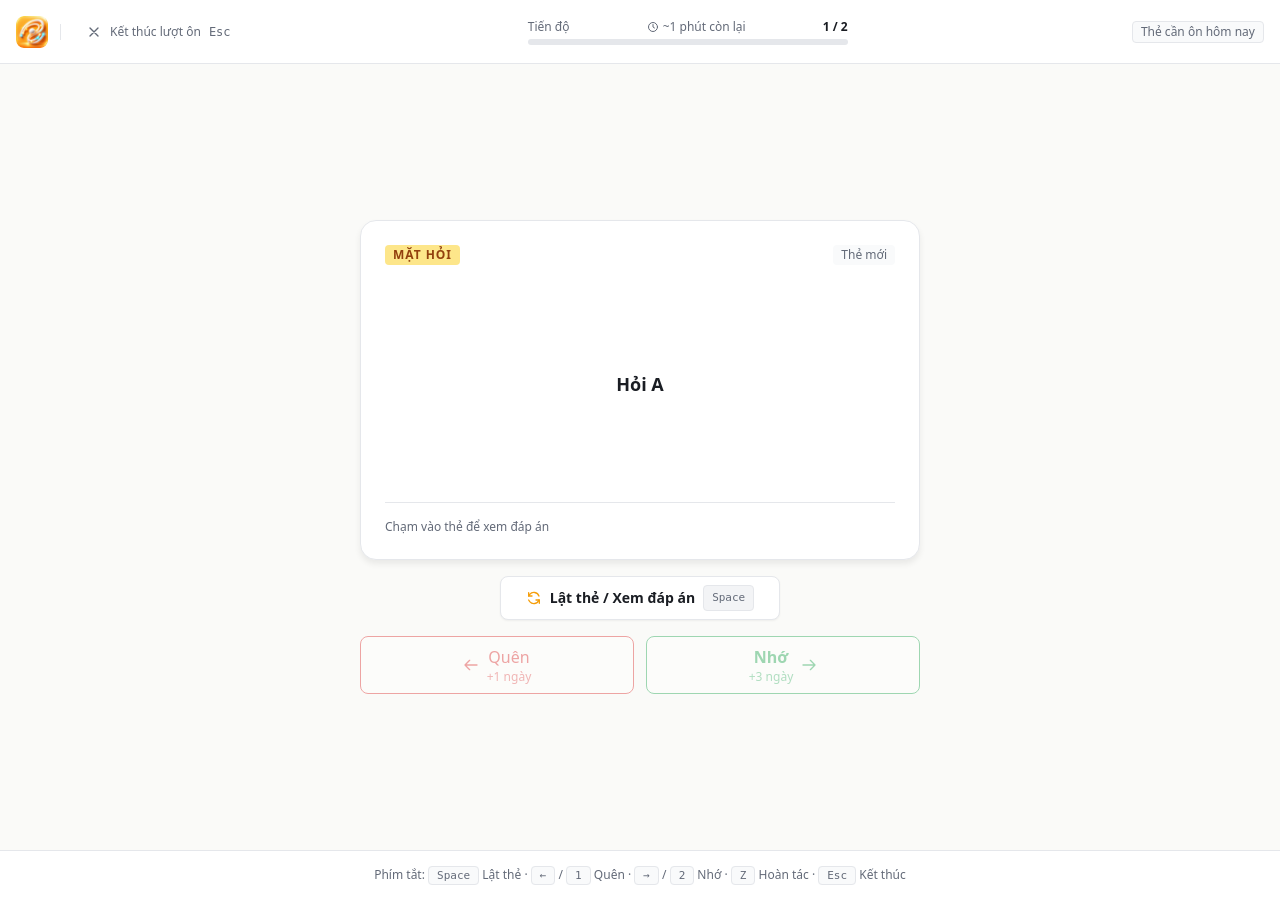
Test: E1-S3-T7 — màn ôn tập › nút đánh giá bị khoá cho tới khi lật thẻ
Check: the button "Nhớ +3 ngày" is disabled, box [646,636,920,694]
What coordinates should you click on to do the following:
click the text "Hỏi A"
I would click on:
 (640, 384)
Its box is [616,370,664,396].
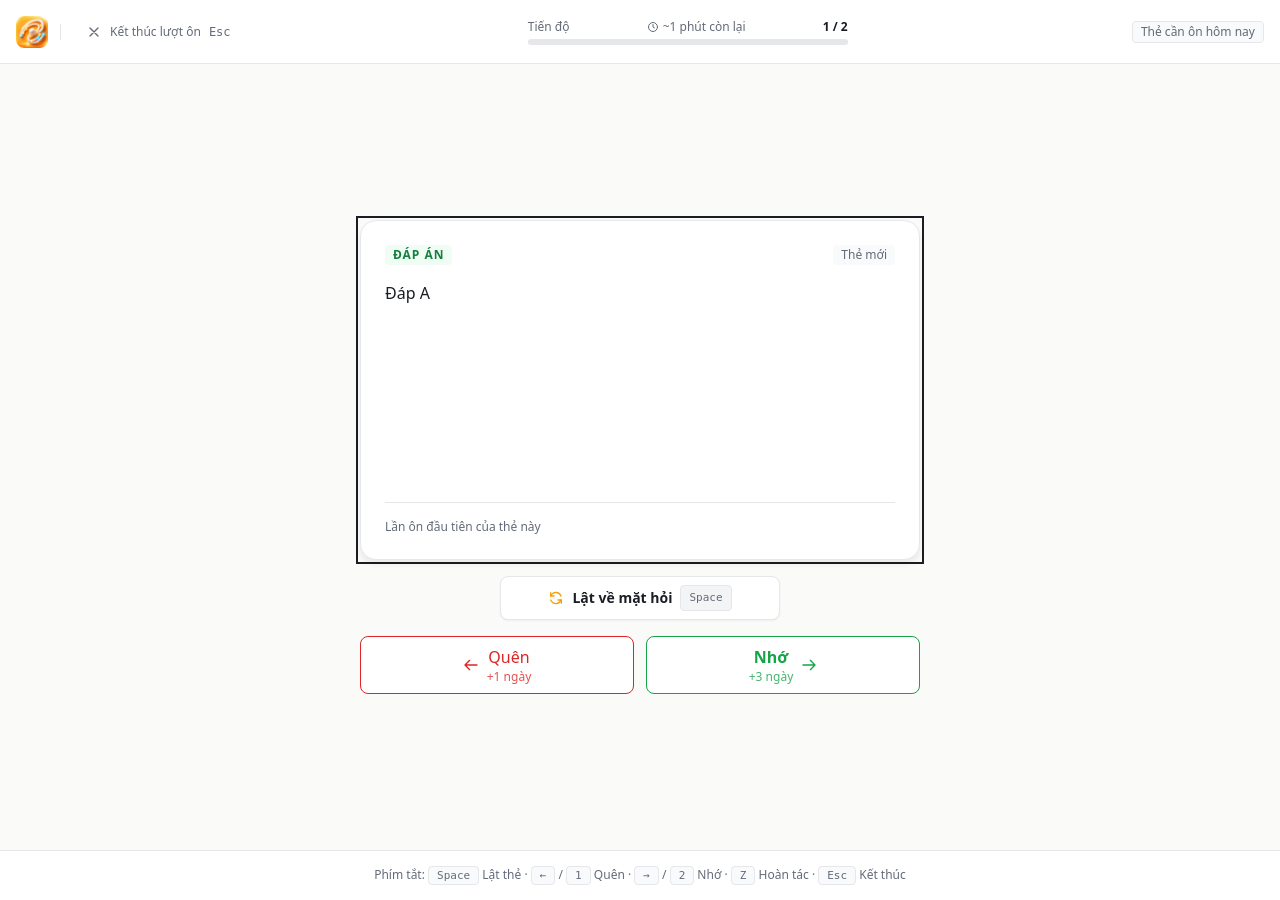
Check: the text "Đáp A" is shown, box [385,282,430,304]
Check: the button "Nhớ +3 ngày" is enabled, box [646,636,920,694]
